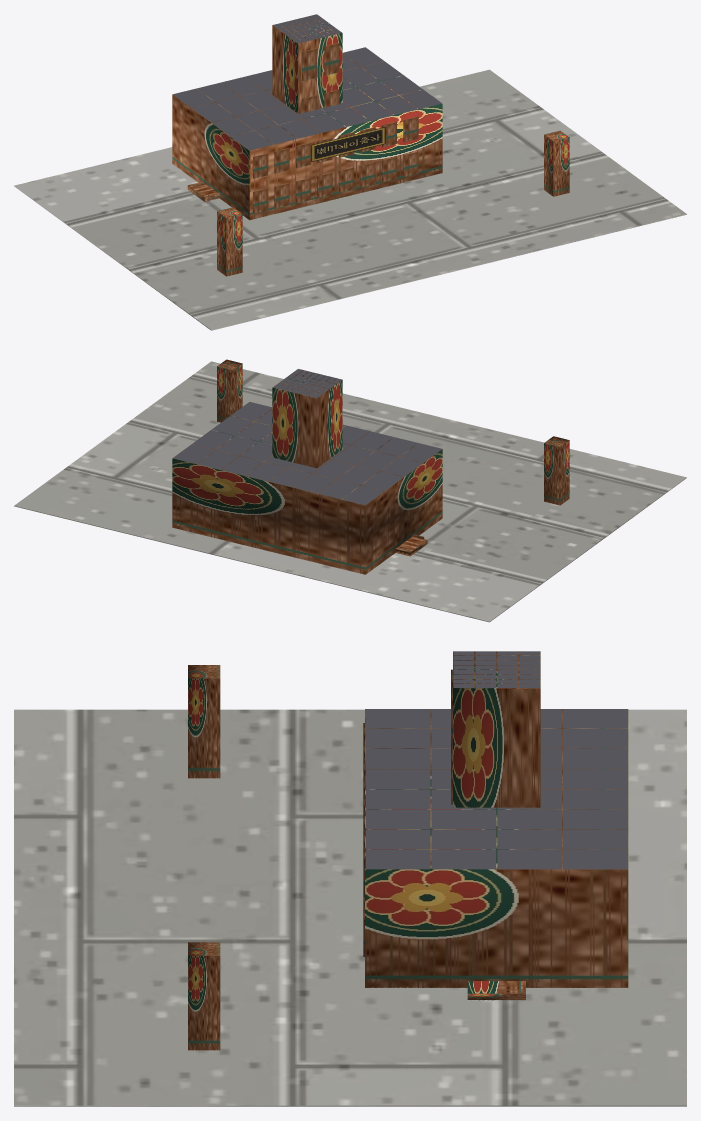
3 views of the same model, one above another, from view 1: azimuth 30°, elevation 25°; view 2: azimuth 150°, elevation 25°; view 3: azimuth 270°, elevation 25° (orthographic). The views are drawn at different scales.
Visible parts, largest first — view 1: 11140_02_04629_021_01_L2__base, 11140_02_04629_021_02_L2__body, 11140_02_04629_021_03_L2__roof, 11140_02_04629_021_05_L2__openings, 11140_02_04629_021_06_L2__green, 11140_02_04629_021_04_L2__sign; view 2: 11140_02_04629_021_01_L2__base, 11140_02_04629_021_02_L2__body, 11140_02_04629_021_03_L2__roof, 11140_02_04629_021_06_L2__green; view 3: 11140_02_04629_021_01_L2__base, 11140_02_04629_021_02_L2__body, 11140_02_04629_021_03_L2__roof, 11140_02_04629_021_06_L2__green, 11140_02_04629_021_05_L2__openings.
Part boxes in pixels (x1,y1,x2,y2): 11140_02_04629_021_01_L2__base: [14, 69, 686, 330]; 11140_02_04629_021_02_L2__body: [172, 16, 442, 220]; 11140_02_04629_021_03_L2__roof: [173, 14, 441, 150]; 11140_02_04629_021_05_L2__openings: [208, 43, 418, 213]; 11140_02_04629_021_06_L2__green: [217, 130, 569, 276]; 11140_02_04629_021_04_L2__sign: [311, 127, 385, 161]; 11140_02_04629_021_01_L2__base: [14, 361, 686, 622]; 11140_02_04629_021_02_L2__body: [172, 370, 442, 574]; 11140_02_04629_021_03_L2__roof: [173, 369, 441, 504]; 11140_02_04629_021_06_L2__green: [217, 359, 569, 505]; 11140_02_04629_021_01_L2__base: [14, 709, 686, 1106]; 11140_02_04629_021_02_L2__body: [365, 651, 628, 1000]; 11140_02_04629_021_03_L2__roof: [365, 651, 627, 869]; 11140_02_04629_021_06_L2__green: [188, 665, 220, 1050]; 11140_02_04629_021_05_L2__openings: [363, 669, 452, 956].
Size of the model in its own units: 64 by 18.02 by 46.
Materials: 5 (5 with a texture image).
